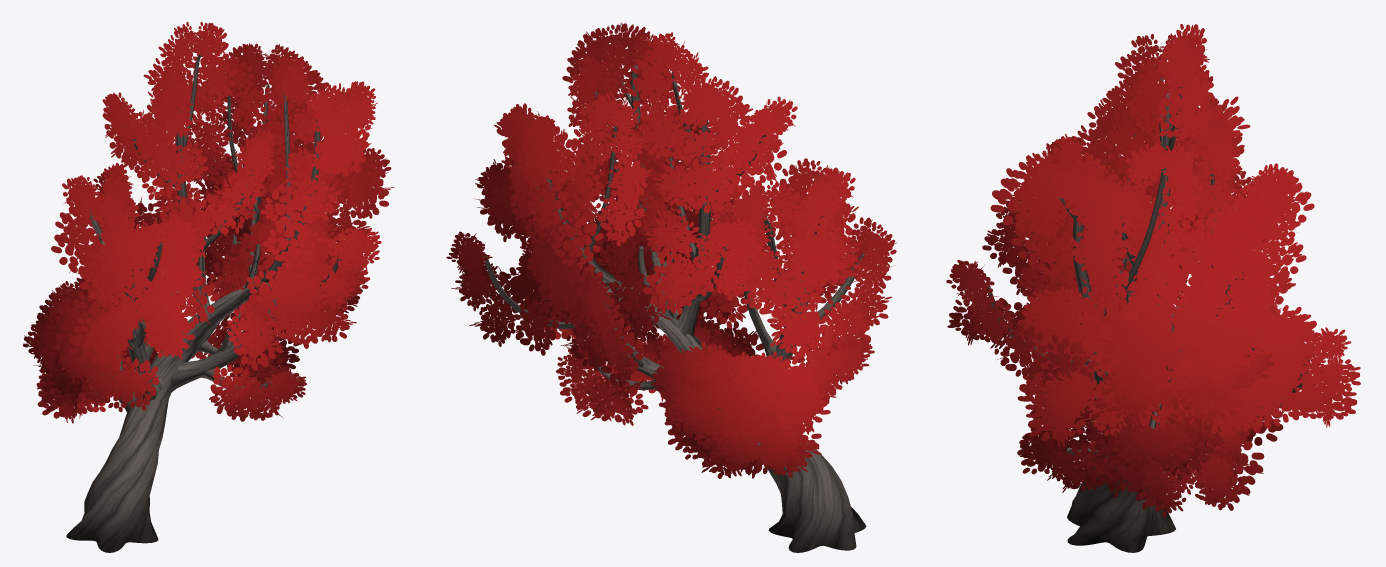
The model's file is TwistedTree_1.gltf.
3 renders of one model, left to right at view 1: azimuth 30°, elevation 25°; view 2: azimuth 150°, elevation 25°; view 3: azimuth 270°, elevation 25°, orthographic. The views are drawn at different scales.
Parts seen in each view (by area): view 1: TwistedTree_1; view 2: TwistedTree_1; view 3: TwistedTree_1.
Part boxes in pixels (left/top/right/bottom): TwistedTree_1: left=23, top=21, right=394, bottom=552; TwistedTree_1: left=446, top=22, right=897, bottom=552; TwistedTree_1: left=946, top=24, right=1360, bottom=552.
Bounding box in the file's own units: 13.52 × 16.73 × 11.55.
Materials: 2 (2 with a texture image).
